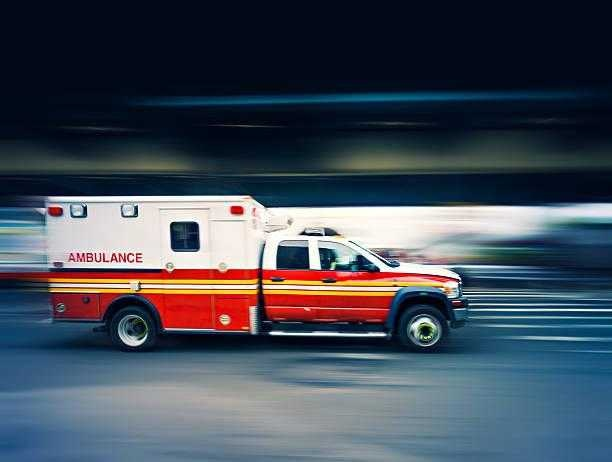Ambulance: (34, 161, 483, 361)
